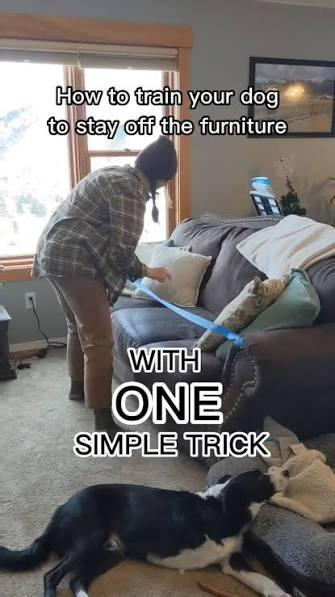adult_dog: (0, 467, 293, 597)
non-dog: (33, 133, 179, 433)
